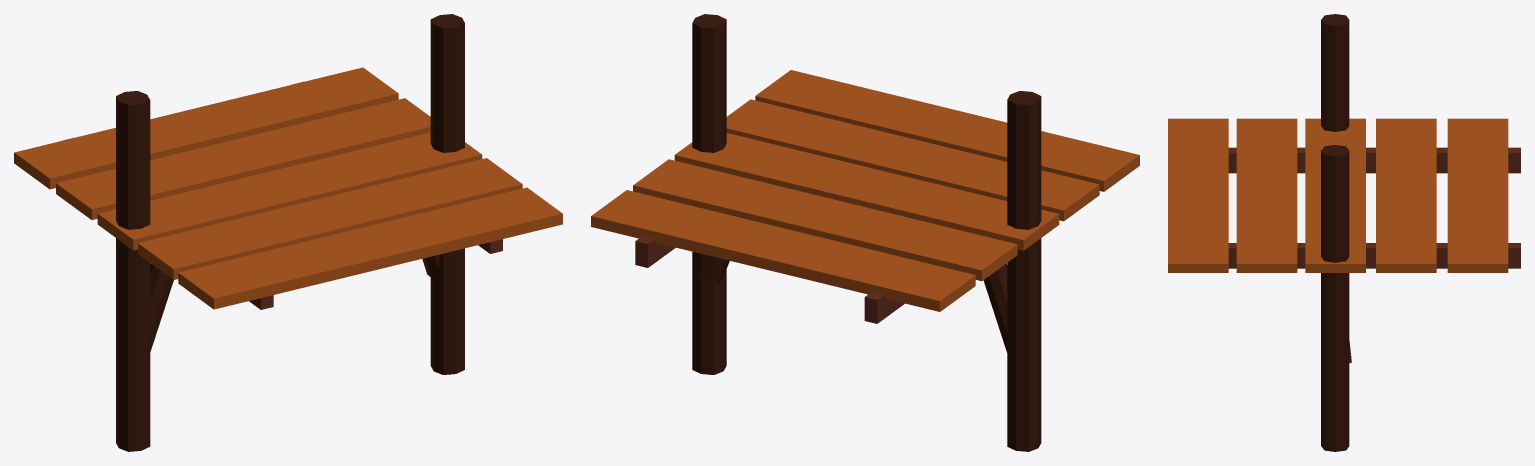
The model's file is Steg.fbx.
The picture shows the model from 3 angles, left to right: view 1: azimuth 30°, elevation 25°; view 2: azimuth 150°, elevation 25°; view 3: azimuth 270°, elevation 25°; orthographic projection. The views are drawn at different scales.
Visible parts, largest first — view 1: Stegbrettter, Stegpfosten2, Stegpfosten1, Stegpfosten1.001; view 2: Stegbrettter, Stegpfosten2, Stegpfosten1, Steghalter, Stegpfosten1.001, Stegpfosten1.002; view 3: Stegbrettter, Stegpfosten1, Stegpfosten2, Steghalter.
Part boxes in pixels (bbox=[...]): Stegbrettter: bbox=[14, 67, 562, 309]; Stegpfosten2: bbox=[116, 91, 150, 451]; Stegpfosten1: bbox=[430, 14, 464, 374]; Stegpfosten1.001: bbox=[149, 263, 173, 351]; Stegbrettter: bbox=[591, 70, 1139, 311]; Stegpfosten2: bbox=[1007, 91, 1041, 451]; Stegpfosten1: bbox=[692, 14, 726, 374]; Steghalter: bbox=[635, 236, 904, 323]; Stegpfosten1.001: bbox=[983, 263, 1007, 352]; Stegpfosten1.002: bbox=[698, 255, 729, 283]; Stegbrettter: bbox=[1168, 118, 1508, 272]; Stegpfosten1: bbox=[1321, 145, 1349, 451]; Stegpfosten2: bbox=[1321, 14, 1349, 131]; Steghalter: bbox=[1228, 147, 1520, 268].
Size of the model in its own units: 810 by 769 by 833.
